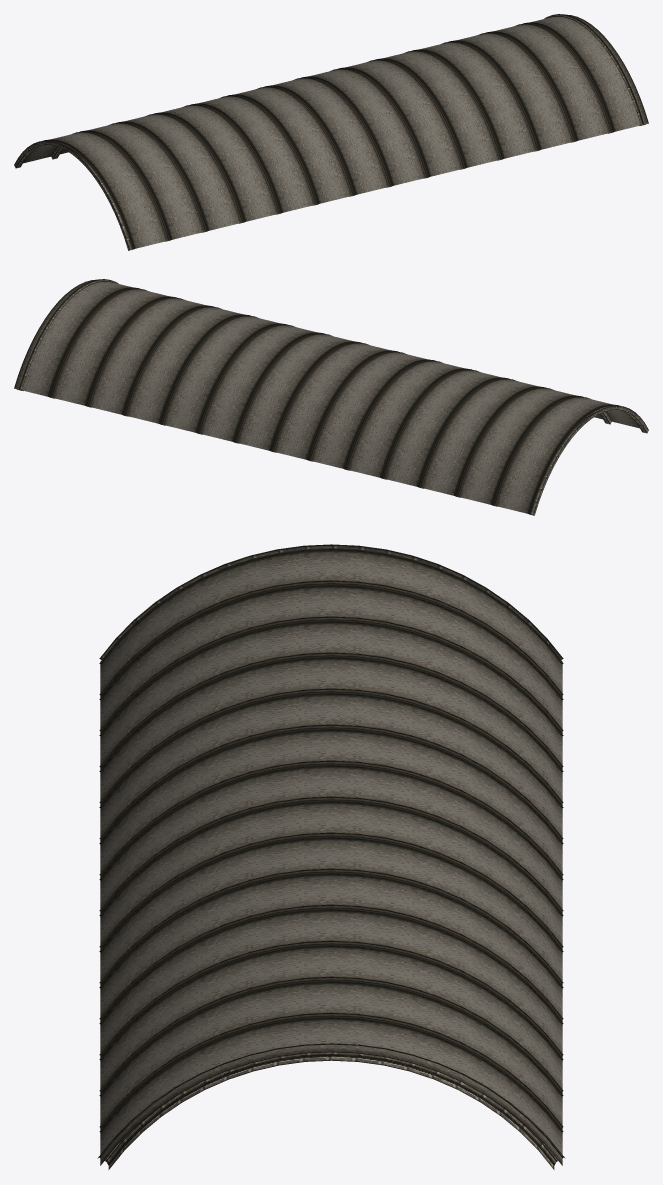
File: EnvBdgMD_Courthouse_A_Indoor_Roof.FBX
3 views of the same model, one above another, from view 1: azimuth 30°, elevation 25°; view 2: azimuth 150°, elevation 25°; view 3: azimuth 270°, elevation 25° (orthographic). The views are drawn at different scales.
Parts seen in each view (by area): view 1: EnvBdgMD_Courthouse_A_Indoor_Roof; view 2: EnvBdgMD_Courthouse_A_Indoor_Roof; view 3: EnvBdgMD_Courthouse_A_Indoor_Roof.
Boxes of the visible parts, left/top/right/bottom form: EnvBdgMD_Courthouse_A_Indoor_Roof: left=14, top=14, right=648, bottom=250; EnvBdgMD_Courthouse_A_Indoor_Roof: left=14, top=279, right=648, bottom=515; EnvBdgMD_Courthouse_A_Indoor_Roof: left=97, top=544, right=565, bottom=1169.
Bounding box in the file's own units: 4220 × 475 × 1649.
